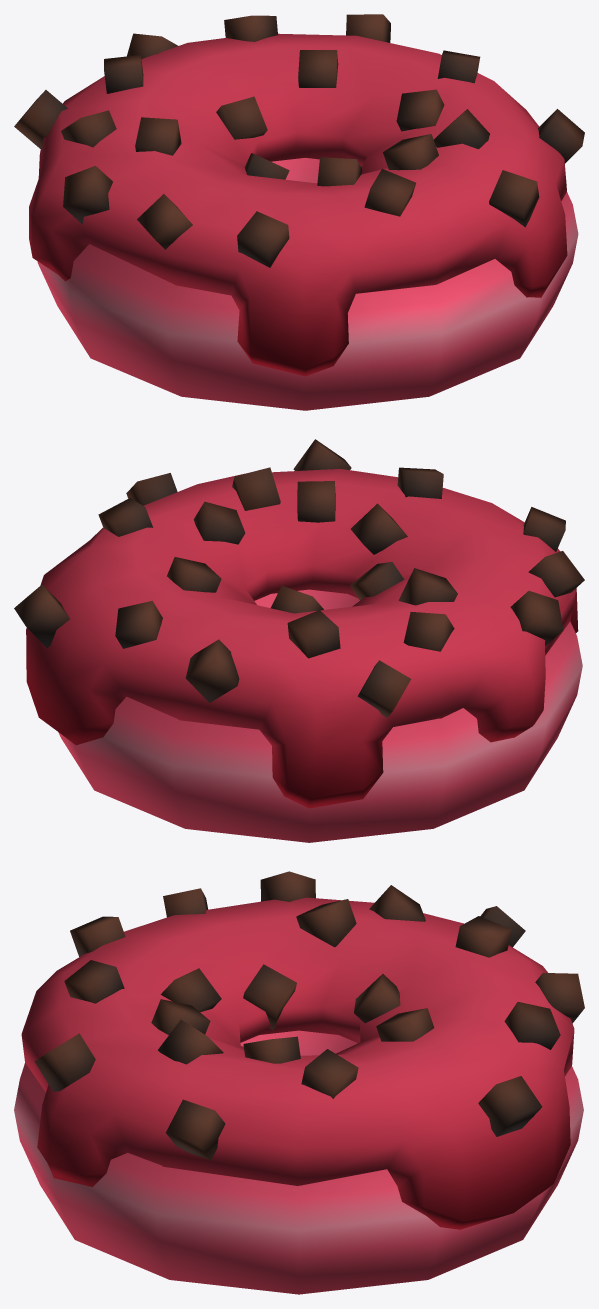
File: m_Donut11.fbx
3 renders of one model, top to bottom at view 1: azimuth 30°, elevation 25°; view 2: azimuth 150°, elevation 25°; view 3: azimuth 270°, elevation 25°, orthographic. The views are drawn at different scales.
Visible parts, largest first — view 1: m_Donut11; view 2: m_Donut11; view 3: m_Donut11.
Boxes of the visible parts, x1,y1,x2,y2 form: m_Donut11: [14, 14, 584, 410]; m_Donut11: [14, 439, 584, 842]; m_Donut11: [14, 871, 584, 1294].
Size of the model in its own units: 12.47 by 5.8 by 12.18.
